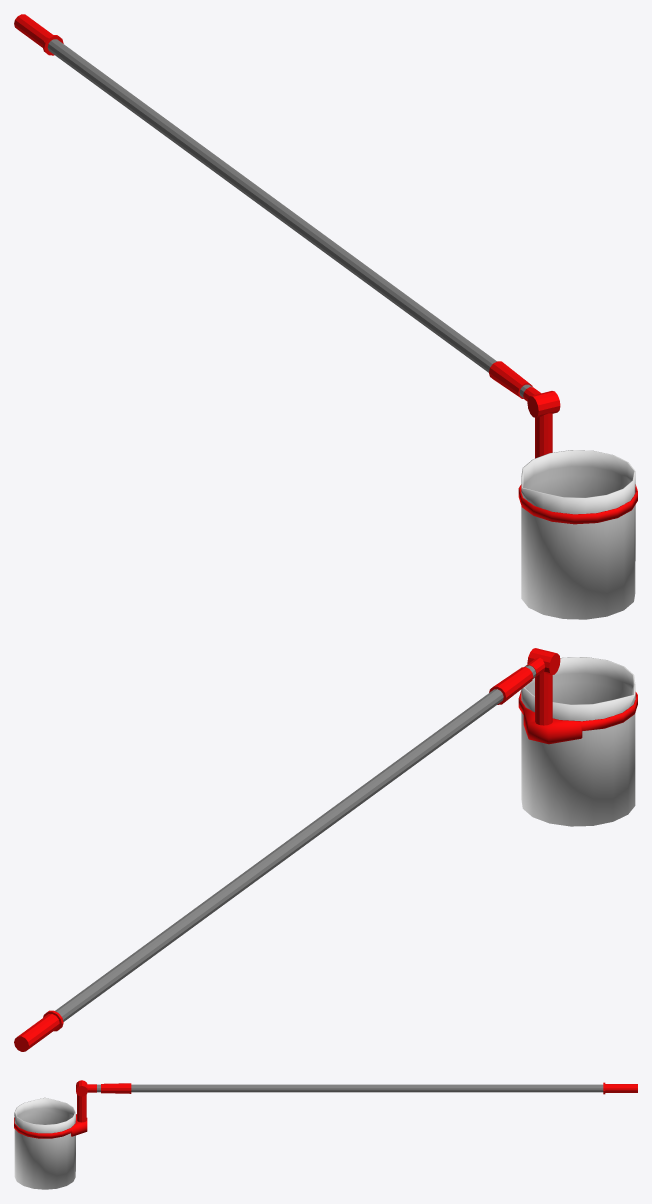
File: Bucket.fbx
The picture shows the model from 3 angles, top to bottom: view 1: azimuth 30°, elevation 25°; view 2: azimuth 150°, elevation 25°; view 3: azimuth 270°, elevation 25°; orthographic projection. The views are drawn at different scales.
Visible parts, largest first — view 1: Eimer, Eimer.001; view 2: Eimer, Eimer.001; view 3: Eimer.001, Eimer.
Boxes of the visible parts, x1,y1,x2,y2 form: Eimer: (521, 450, 635, 619); Eimer.001: (14, 14, 637, 524); Eimer: (521, 657, 635, 826); Eimer.001: (14, 648, 637, 1051); Eimer.001: (14, 1080, 637, 1138); Eimer: (14, 1097, 75, 1189).
Bounding box in the file's own units: 14.37 × 22.51 × 136.
